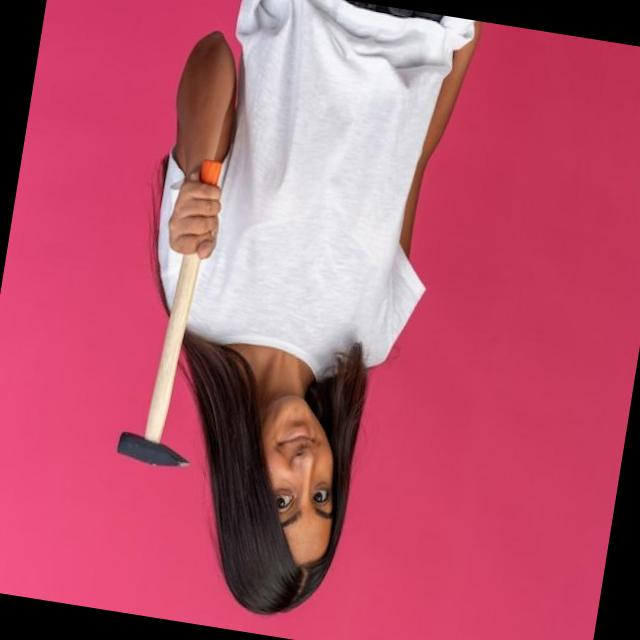hammer: (118, 256, 200, 466), (201, 161, 222, 185)
